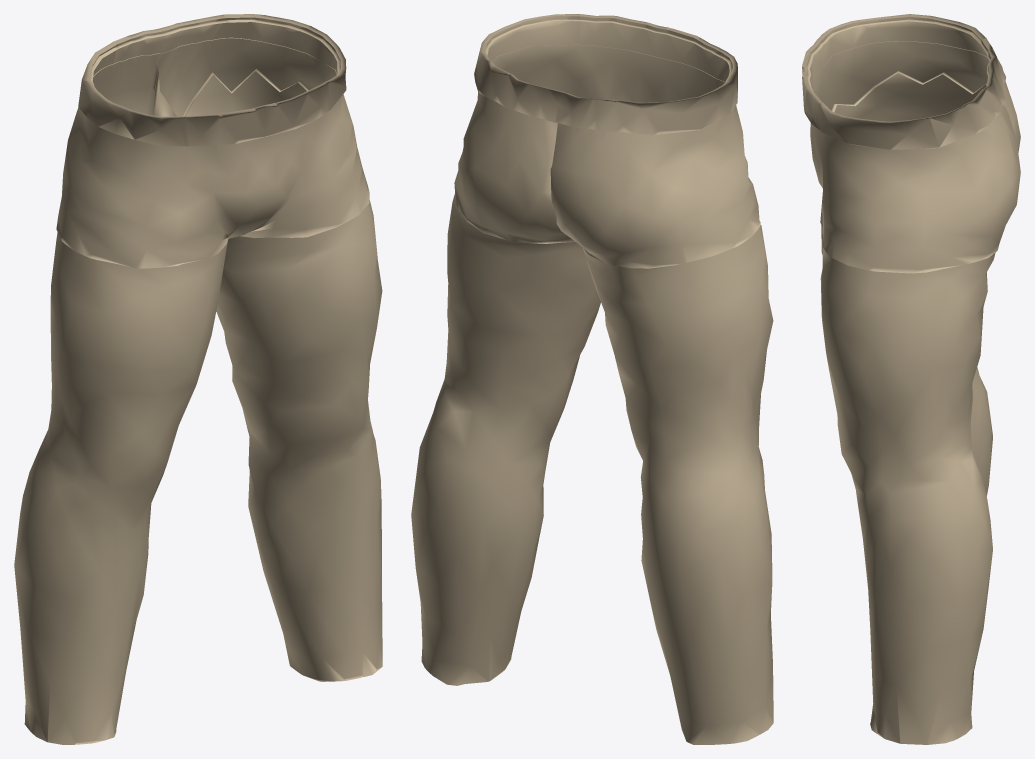
File: pants-beige-v1.glb
3 views of the same model, side by side, from view 1: azimuth 30°, elevation 25°; view 2: azimuth 150°, elevation 25°; view 3: azimuth 270°, elevation 25° (orthographic). The views are drawn at different scales.
Parts seen in each view (by area): view 1: pants_leg_R, pants_leg_L, pants_waist, pants_waistband; view 2: pants_leg_R, pants_leg_L, pants_waist, pants_waistband; view 3: pants_leg_L, pants_waist, pants_waistband, pants_leg_R.
Boxes of the visible parts, x1=… form: pants_leg_R: x1=14, y1=232, x2=227, y2=744; pants_leg_L: x1=183, y1=68, x2=382, y2=681; pants_waist: x1=56, y1=19, x2=369, y2=268; pants_waistband: x1=78, y1=14, x2=346, y2=146; pants_leg_R: x1=583, y1=225, x2=773, y2=744; pants_leg_L: x1=411, y1=194, x2=600, y2=685; pants_waist: x1=454, y1=19, x2=760, y2=268; pants_waistband: x1=474, y1=14, x2=737, y2=134; pants_leg_L: x1=820, y1=246, x2=995, y2=744; pants_waist: x1=807, y1=19, x2=1020, y2=273; pants_waistband: x1=802, y1=14, x2=1005, y2=149; pants_leg_R: x1=820, y1=71, x2=992, y2=496.
Size of the model in its own units: 0.5261 by 0.9336 by 0.3045.
